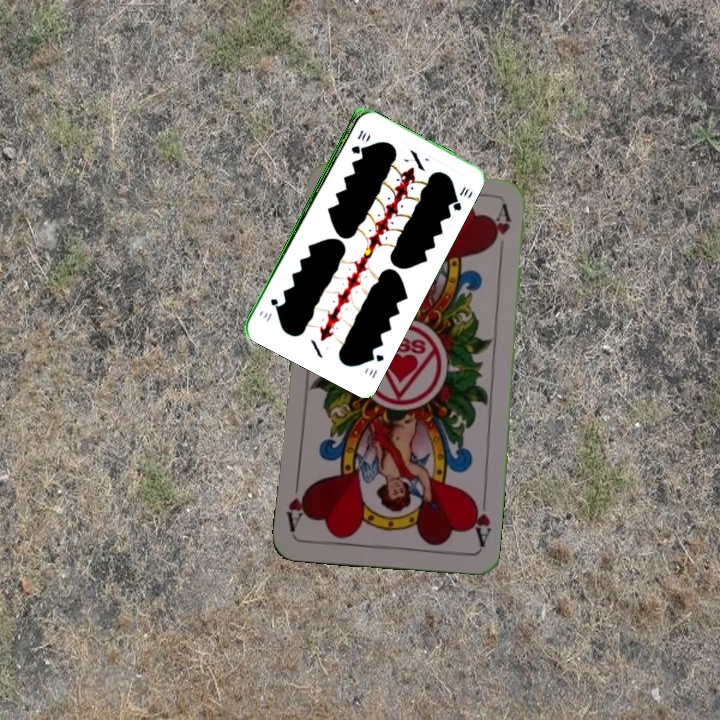G10: (364, 348, 386, 381), (347, 126, 369, 156)
HA: (466, 492, 494, 550)
